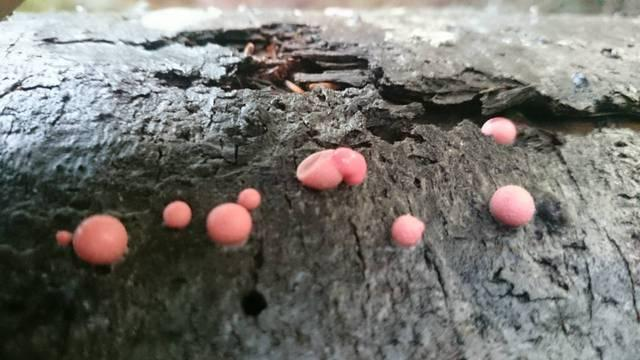poisonous_mushroom: (295, 145, 368, 190), (71, 213, 128, 266), (205, 201, 252, 246), (488, 183, 536, 227), (390, 212, 425, 247), (480, 115, 517, 145), (161, 199, 192, 229), (236, 186, 261, 209)
